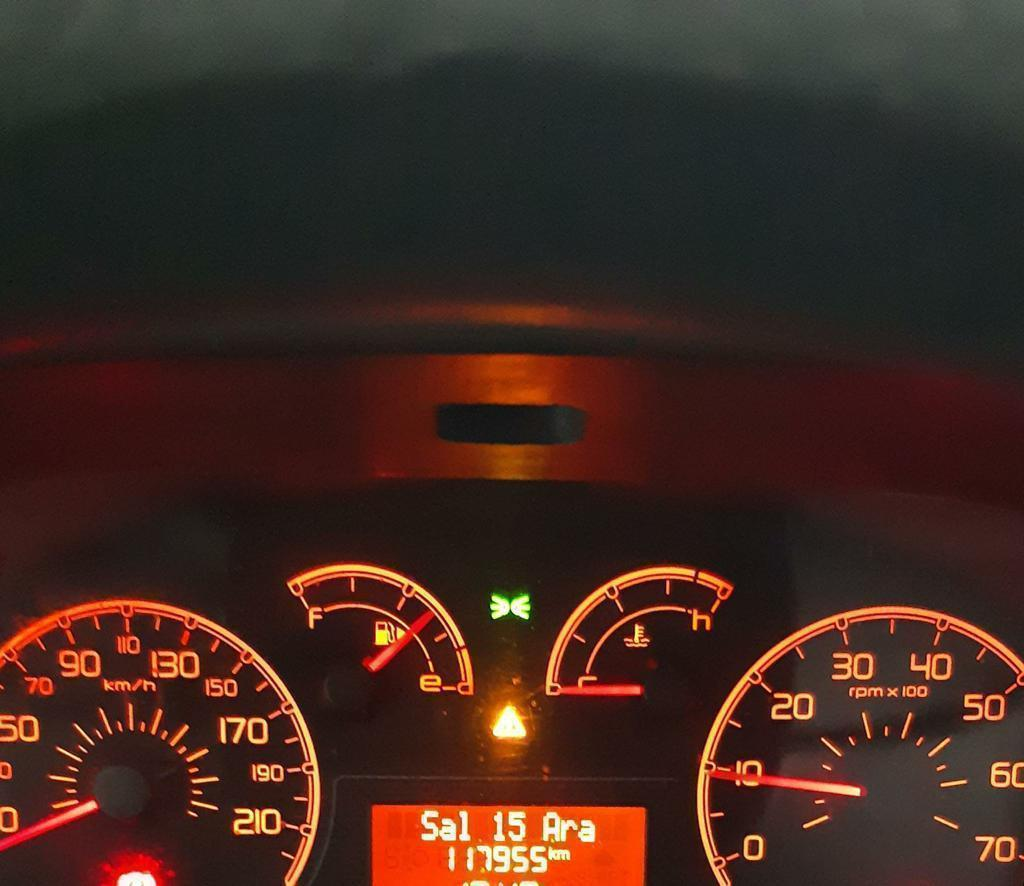1: (490, 808, 504, 844), (445, 844, 457, 874), (464, 844, 474, 873)
5: (508, 808, 528, 842), (530, 842, 547, 873), (511, 843, 528, 874)
7: (476, 843, 493, 871)
9: (492, 844, 510, 874)
X: (420, 808, 438, 843), (542, 810, 561, 842), (560, 817, 578, 842), (457, 809, 471, 841), (440, 816, 456, 842), (578, 818, 595, 842), (557, 847, 570, 860), (548, 845, 557, 861)
odometer: (362, 794, 654, 886)
